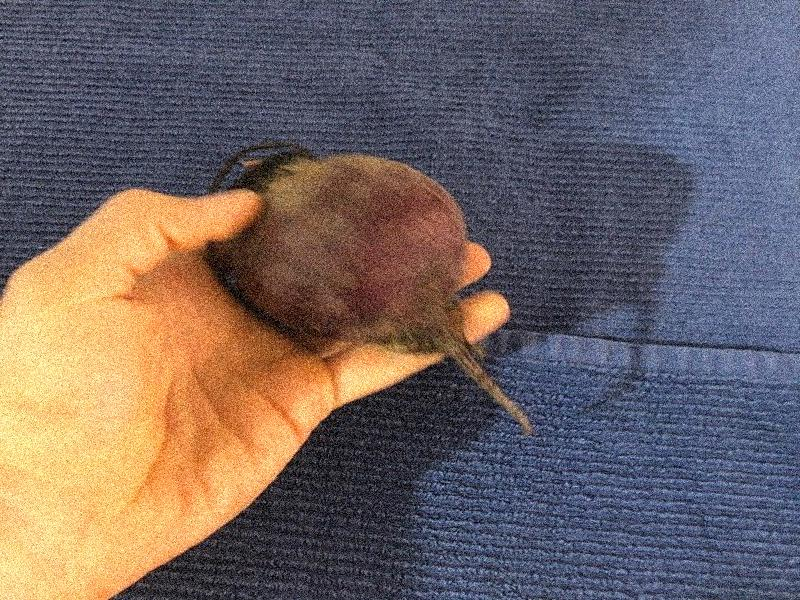Beet: (209, 142, 534, 436)
